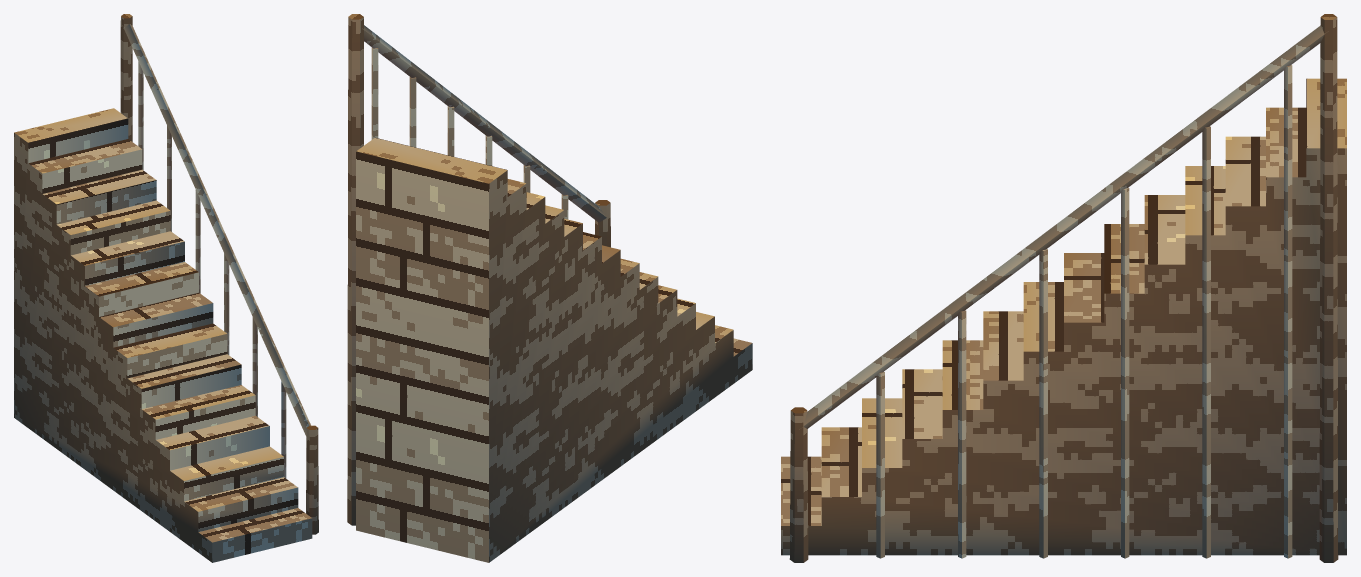
The model's file is wtown.stairs__gallery.glb.
3 renders of one model, left to right at view 1: azimuth 30°, elevation 25°; view 2: azimuth 150°, elevation 25°; view 3: azimuth 270°, elevation 25°, orthographic. The views are drawn at different scales.
Parts seen in each view (by area): view 1: kit_treads, kit_rail, kit_spindles, kit_rail_posts; view 2: kit_treads, kit_rail_posts, kit_rail, kit_spindles; view 3: kit_treads, kit_spindles, kit_rail_posts, kit_rail.
Boxes of the visible parts, left/top/right/bottom form: kit_treads: left=14, top=108, right=312, bottom=562; kit_rail: left=122, top=24, right=310, bottom=437; kit_spindles: left=138, top=61, right=286, bottom=478; kit_rail_posts: left=120, top=14, right=318, bottom=534; kit_treads: left=356, top=137, right=752, bottom=562; kit_rail_posts: left=347, top=14, right=610, bottom=525; kit_rail: left=362, top=25, right=606, bottom=222; kit_spindles: left=371, top=47, right=568, bottom=219; kit_treads: left=781, top=78, right=1346, bottom=555; kit_spindles: left=876, top=65, right=1292, bottom=558; kit_rail_posts: left=789, top=14, right=1338, bottom=562; kit_rail: left=799, top=25, right=1328, bottom=429.
Size of the model in its own units: 1.22 by 4 by 3.78.
4 materials, 4 textured.
